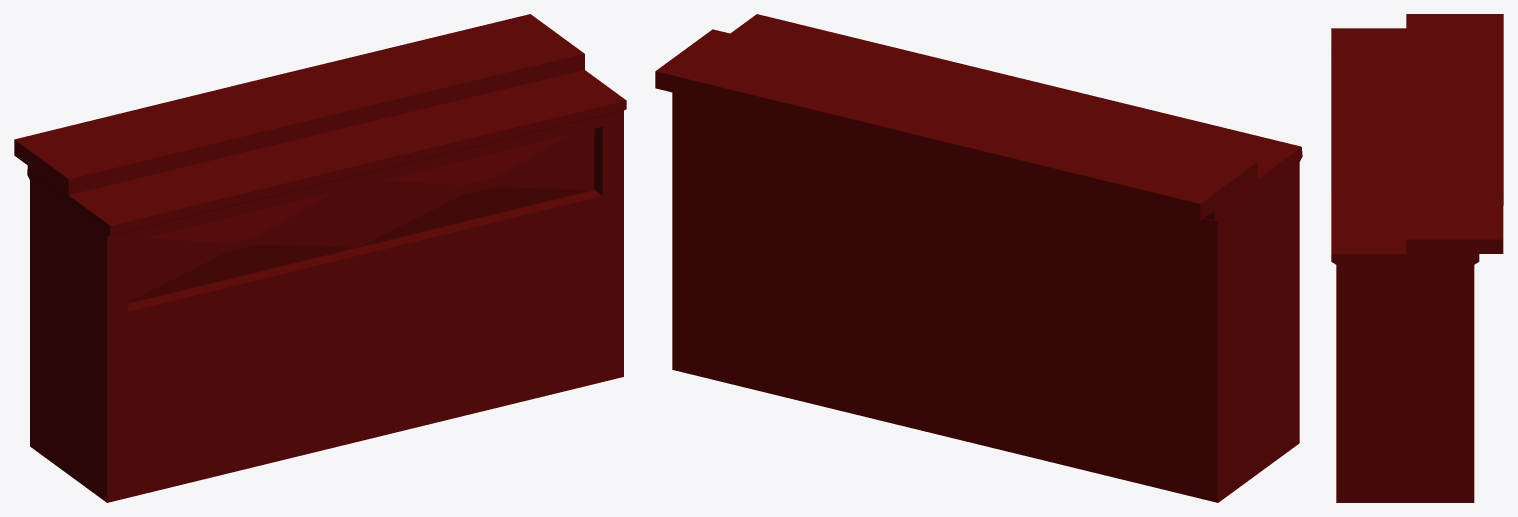
The model's file is kitchenIsland.fbx.
3 views of the same model, side by side, from view 1: azimuth 30°, elevation 25°; view 2: azimuth 150°, elevation 25°; view 3: azimuth 270°, elevation 25° (orthographic). The views are drawn at different scales.
Parts seen in each view (by area): view 1: pPlane5; view 2: pPlane5; view 3: pPlane5.
Boxes of the visible parts, bbox=[...] form: pPlane5: bbox=[14, 14, 626, 502]; pPlane5: bbox=[655, 14, 1302, 502]; pPlane5: bbox=[1331, 14, 1503, 502].
Size of the model in its own units: 5.44 by 2.97 by 1.76.
